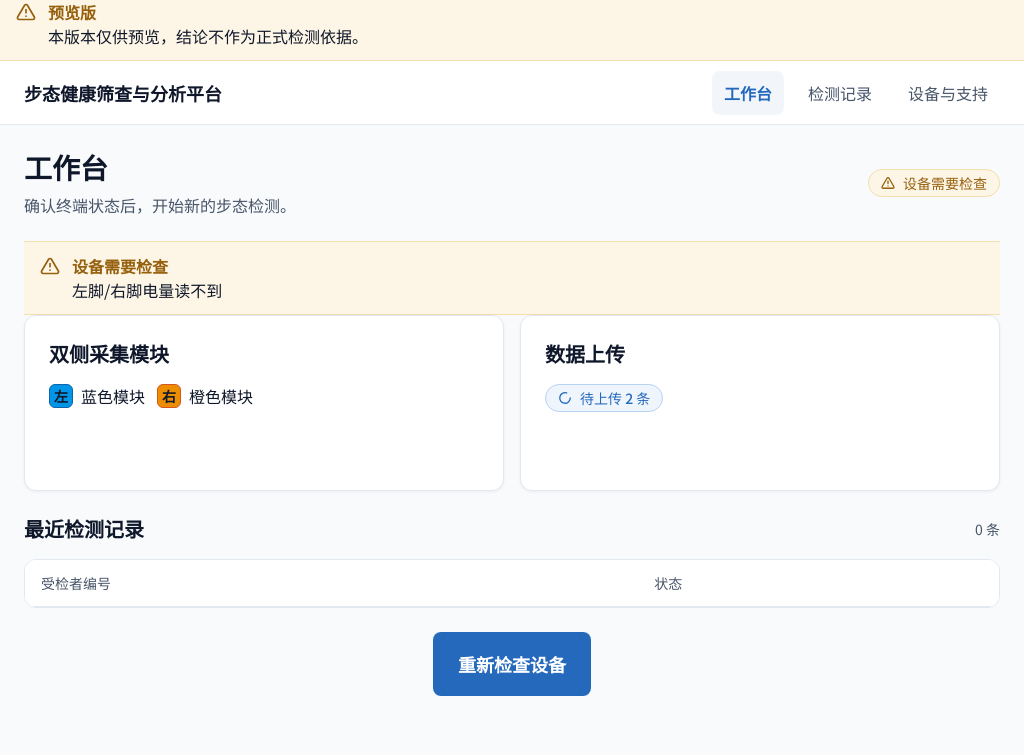
Scenario: B2：重新检查设备失败要说出来 › 失败时在工作台给出原因与可操作的建议，下一次成功后清掉
The width and height of the screenshot is (1024, 755).
Click the button "重新检查设备".
click(512, 664)  # box x1=433 y1=632 x2=591 y2=696
(page scrolled)
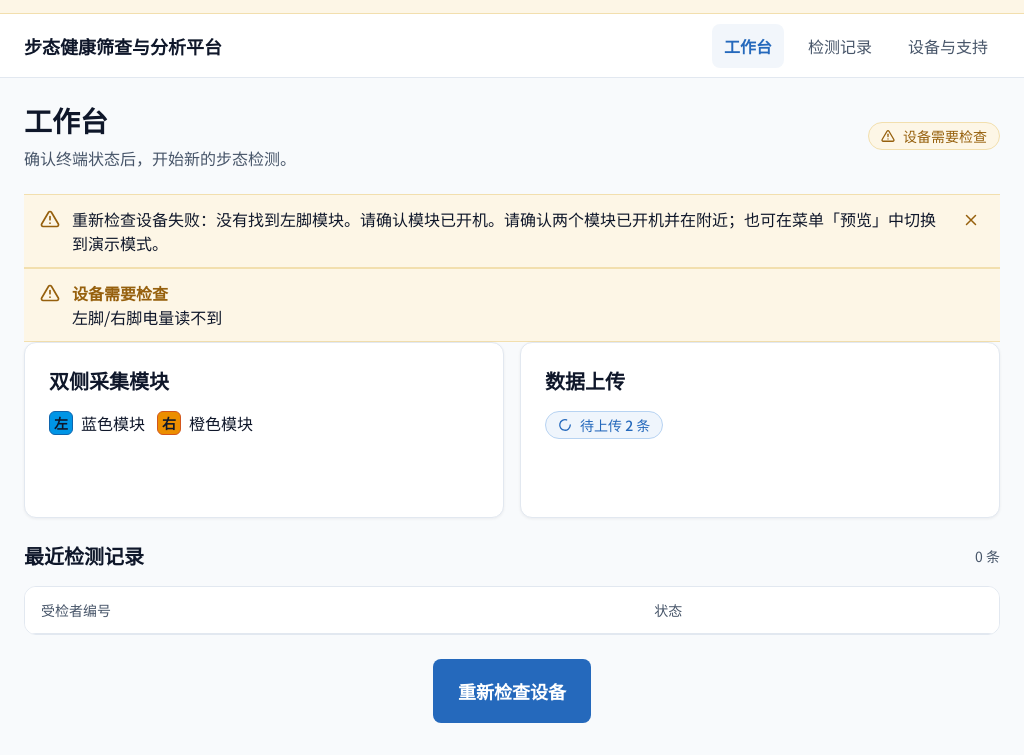
Check: the message "重新检查设备失败" does not show "。。", box x1=24 y1=194 x2=1000 y2=268
Check: the message "重新检查设备失败" reads "重新检查设备失败：没有找到左脚模块。请确认模块已开机。请确认两个模块已开机并在附近；也可在菜单「预览」中切换到演示模式。", box x1=72 y1=207 x2=936 y2=255
Click the button "重新检查设备".
click(512, 691)  # box x1=433 y1=659 x2=591 y2=723
(page scrolled)
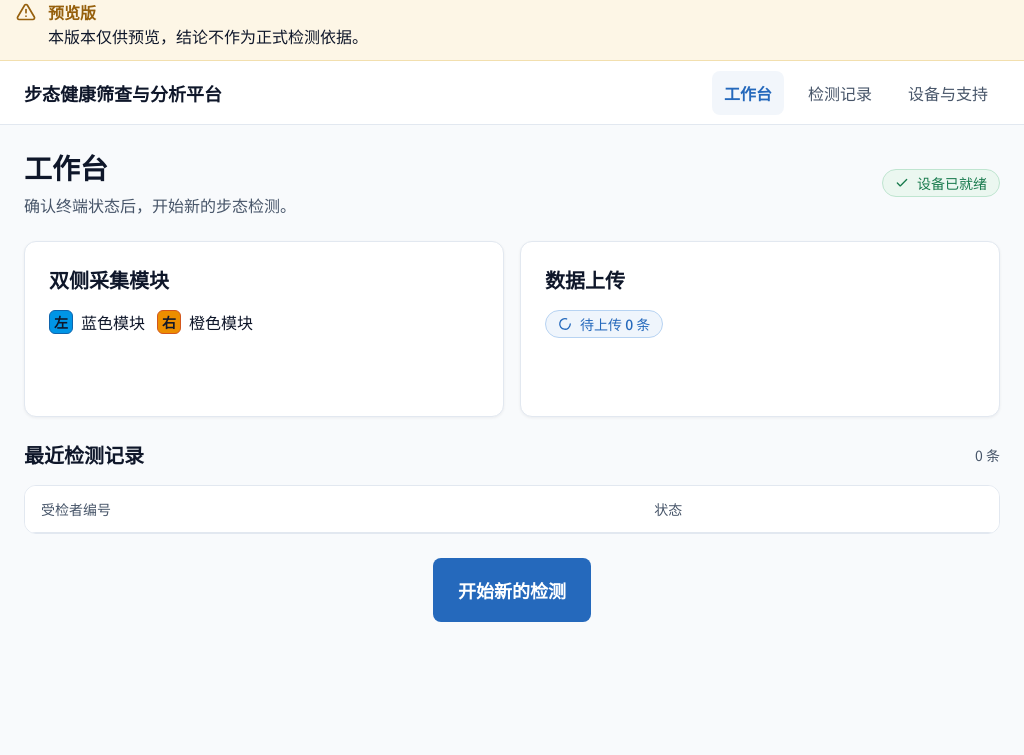
Check: the button "开始新的检测" is shown, box x1=433 y1=558 x2=591 y2=622
Check: the text "重新检查设备失败" is gone
